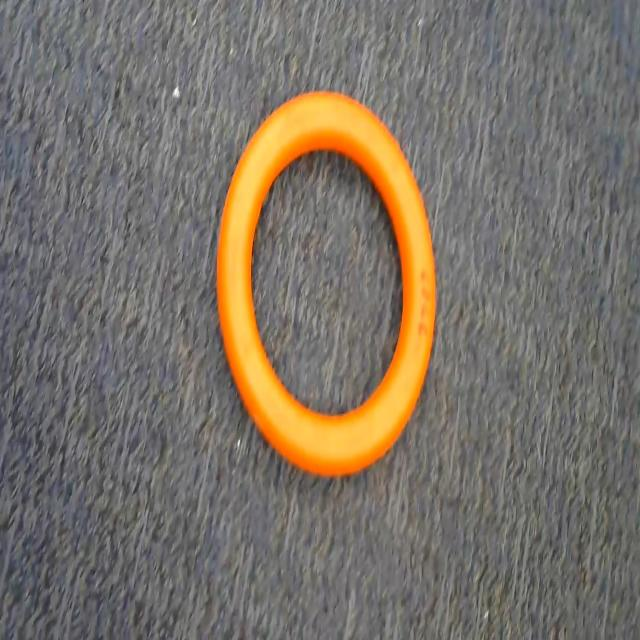note: (186, 83, 474, 493)
